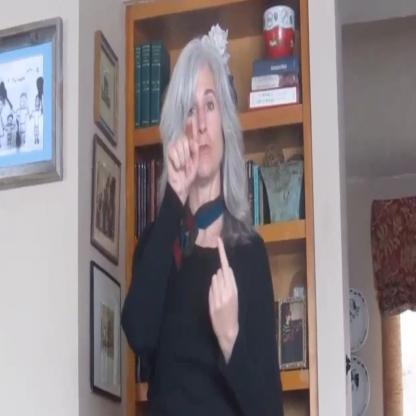NiceToMeetYou: (160, 122, 248, 350)
